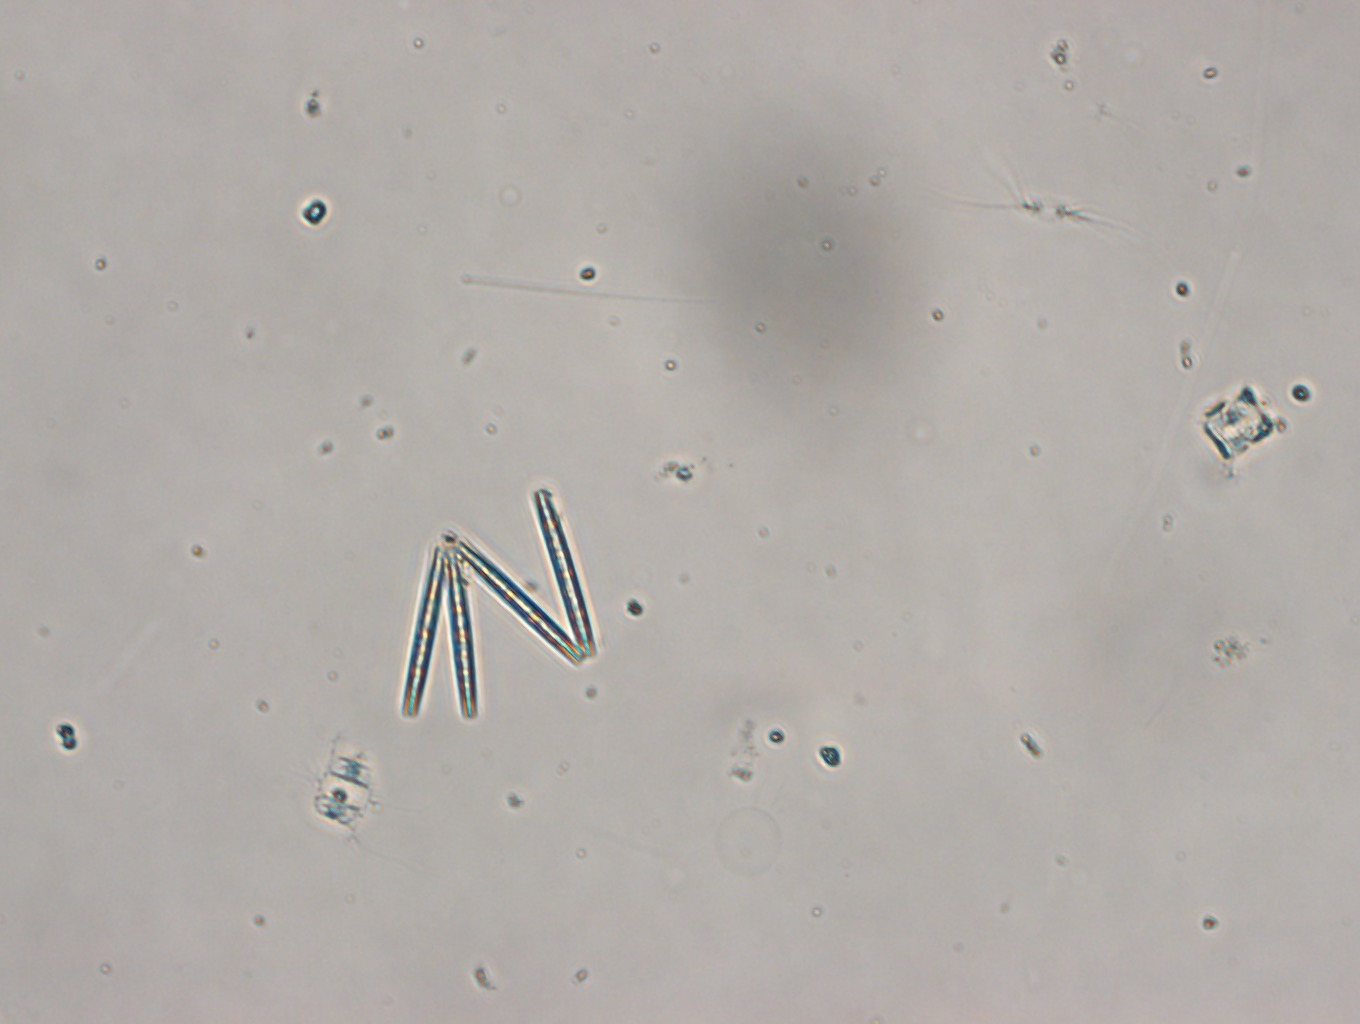thalassionema nitzschioides: (393, 488, 596, 720)
